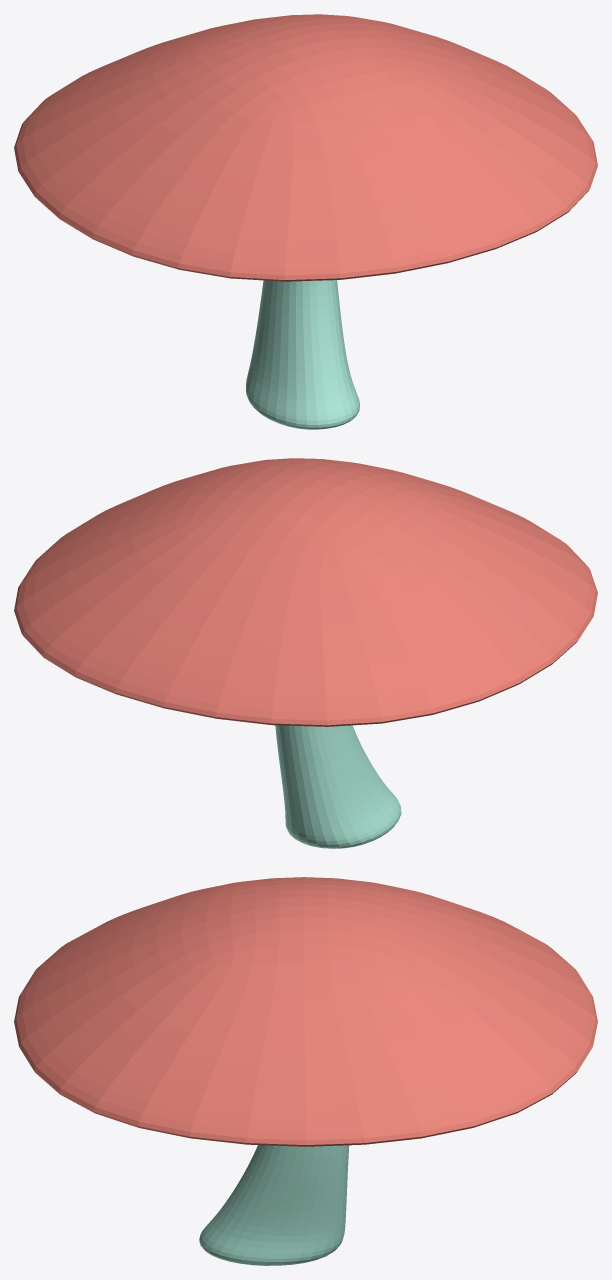
File: main_Shroom.fbx
3 renders of one model, top to bottom at view 1: azimuth 30°, elevation 25°; view 2: azimuth 150°, elevation 25°; view 3: azimuth 270°, elevation 25°, orthographic. The views are drawn at different scales.
Visible parts, largest first — view 1: Cube.010; view 2: Cube.010; view 3: Cube.010.
Boxes of the visible parts, x1,y1,x2,y2 form: Cube.010: (14,14,597,429); Cube.010: (14,458,597,848); Cube.010: (14,877,597,1265).
Size of the model in its own units: 667 by 447 by 667.
